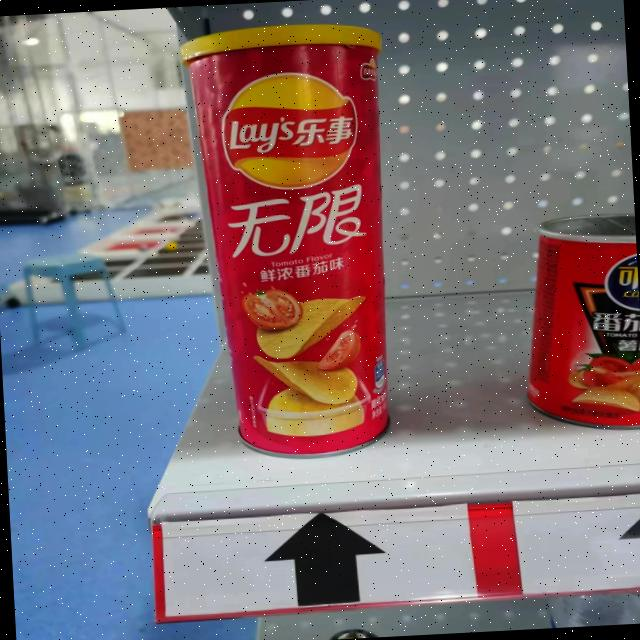lay-s_chip: (220, 70, 358, 192)
